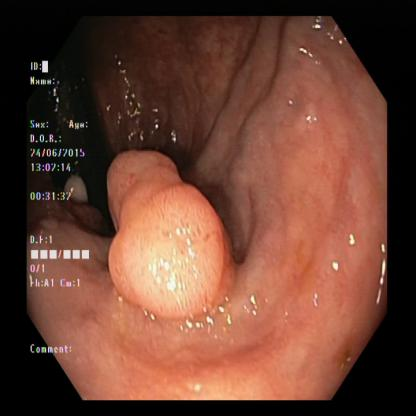Labels: (27, 47, 102, 361)
Polyps: (104, 141, 238, 318), (66, 170, 90, 209)
